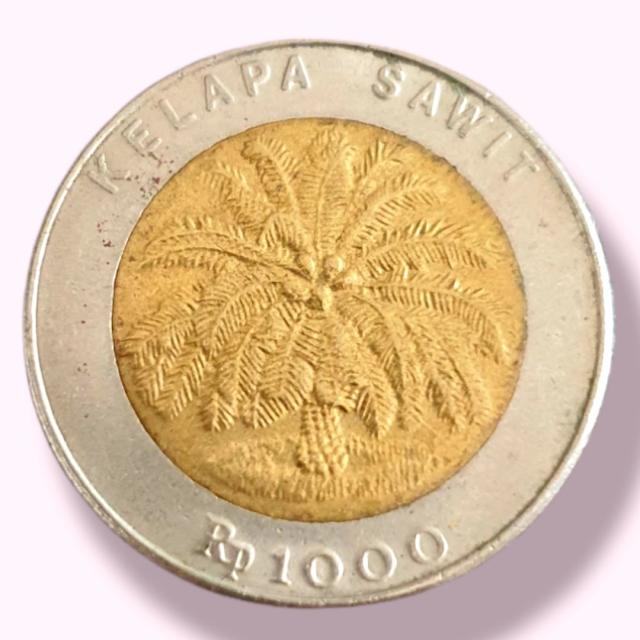1000-sawit: (19, 38, 617, 618)
